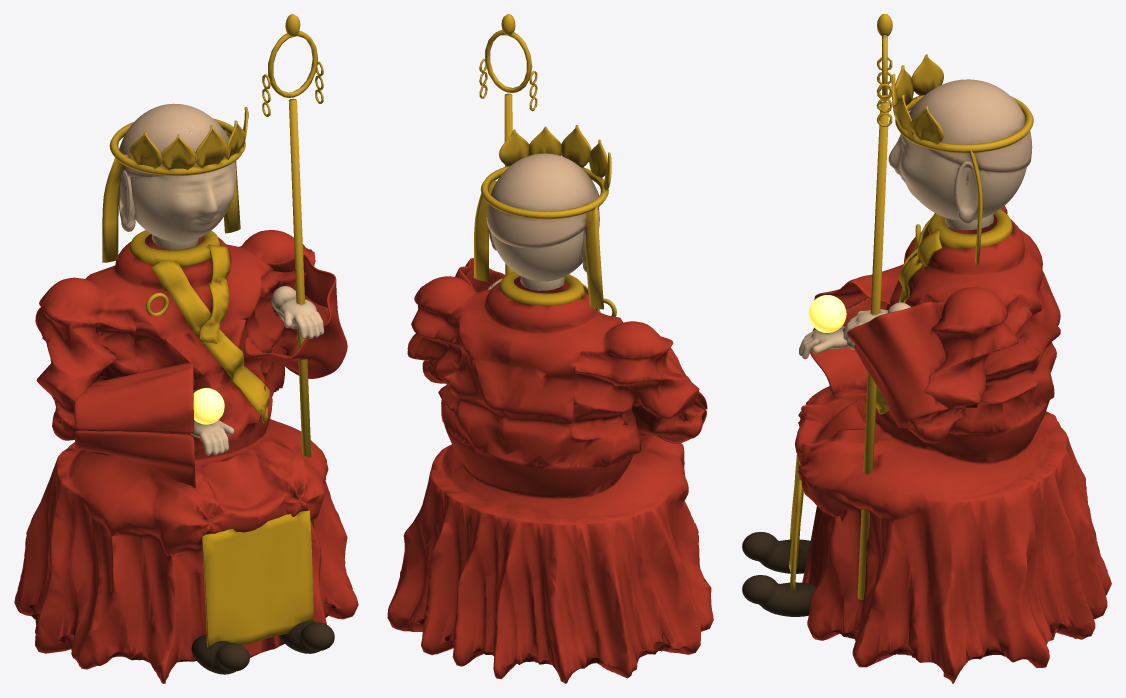
Rendered from dizang.glb.
3 renders of one model, left to right at view 1: azimuth 30°, elevation 25°; view 2: azimuth 150°, elevation 25°; view 3: azimuth 270°, elevation 25°, orthographic. The views are drawn at different scales.
Parts seen in each view (by area): view 1: DZ_Robe, DZ_Apron, DZ_SleeveL, DZ_HeadMesh, DZ_Lapel, DZ_Staff, DZ_SleeveR, DZ_Scalp, DZ_CrownPanels, DZ_Boots, DZ_Ribbons, DZ_Collar (+5 smaller); view 2: DZ_Robe, DZ_Scalp, DZ_CrownPanels, DZ_HeadMesh, DZ_Ribbons, DZ_Staff, DZ_CrownBand, DZ_Collar, DZ_SleeveL, DZ_SleeveR; view 3: DZ_Robe, DZ_SleeveR, DZ_Scalp, DZ_HeadMesh, DZ_Staff, DZ_Boots, DZ_SleeveL, DZ_CrownPanels, DZ_CrownBand, DZ_Collar, DZ_Lapel, DZ_Ears (+4 smaller).
Part boxes in pixels (left/top/right/bottom): DZ_Robe: left=14, top=230, right=358, bottom=683; DZ_Apron: left=202, top=510, right=313, bottom=647; DZ_SleeveL: left=74, top=362, right=195, bottom=487; DZ_HeadMesh: left=126, top=125, right=236, bottom=242; DZ_Lapel: left=151, top=244, right=269, bottom=423; DZ_Staff: left=262, top=14, right=323, bottom=528; DZ_SleeveR: left=244, top=254, right=347, bottom=378; DZ_Scalp: left=119, top=103, right=229, bottom=177; DZ_CrownPanels: left=129, top=107, right=248, bottom=170; DZ_Boots: left=191, top=620, right=334, bottom=674; DZ_Ribbons: left=102, top=129, right=240, bottom=262; DZ_Collar: left=129, top=230, right=220, bottom=266; DZ_Robe: left=387, top=276, right=713, bottom=683; DZ_Scalp: left=486, top=153, right=598, bottom=248; DZ_CrownPanels: left=499, top=125, right=611, bottom=190; DZ_HeadMesh: left=490, top=209, right=599, bottom=281; DZ_Ribbons: left=474, top=180, right=603, bottom=309; DZ_Staff: left=479, top=14, right=537, bottom=275; DZ_CrownBand: left=480, top=166, right=608, bottom=219; DZ_Collar: left=499, top=271, right=584, bottom=306; DZ_SleeveL: left=631, top=336, right=707, bottom=443; DZ_SleeveR: left=426, top=258, right=505, bottom=367; DZ_Robe: left=795, top=205, right=1111, bottom=683; DZ_SleeveR: left=847, top=301, right=962, bottom=428; DZ_Scalp: left=909, top=79, right=1032, bottom=172; DZ_HeadMesh: left=888, top=89, right=1026, bottom=220; DZ_Staff: left=857, top=14, right=892, bottom=599; DZ_Boots: left=742, top=532, right=816, bottom=616; DZ_SleeveL: left=810, top=264, right=903, bottom=394; DZ_CrownPanels: left=891, top=54, right=943, bottom=144; DZ_CrownBand: left=895, top=95, right=1033, bottom=153; DZ_Collar: left=928, top=209, right=1012, bottom=248; DZ_Lapel: left=876, top=217, right=942, bottom=414; DZ_Ears: left=955, top=161, right=978, bottom=223.
Size of the model in its own units: 1.18 by 2.21 by 1.16.
